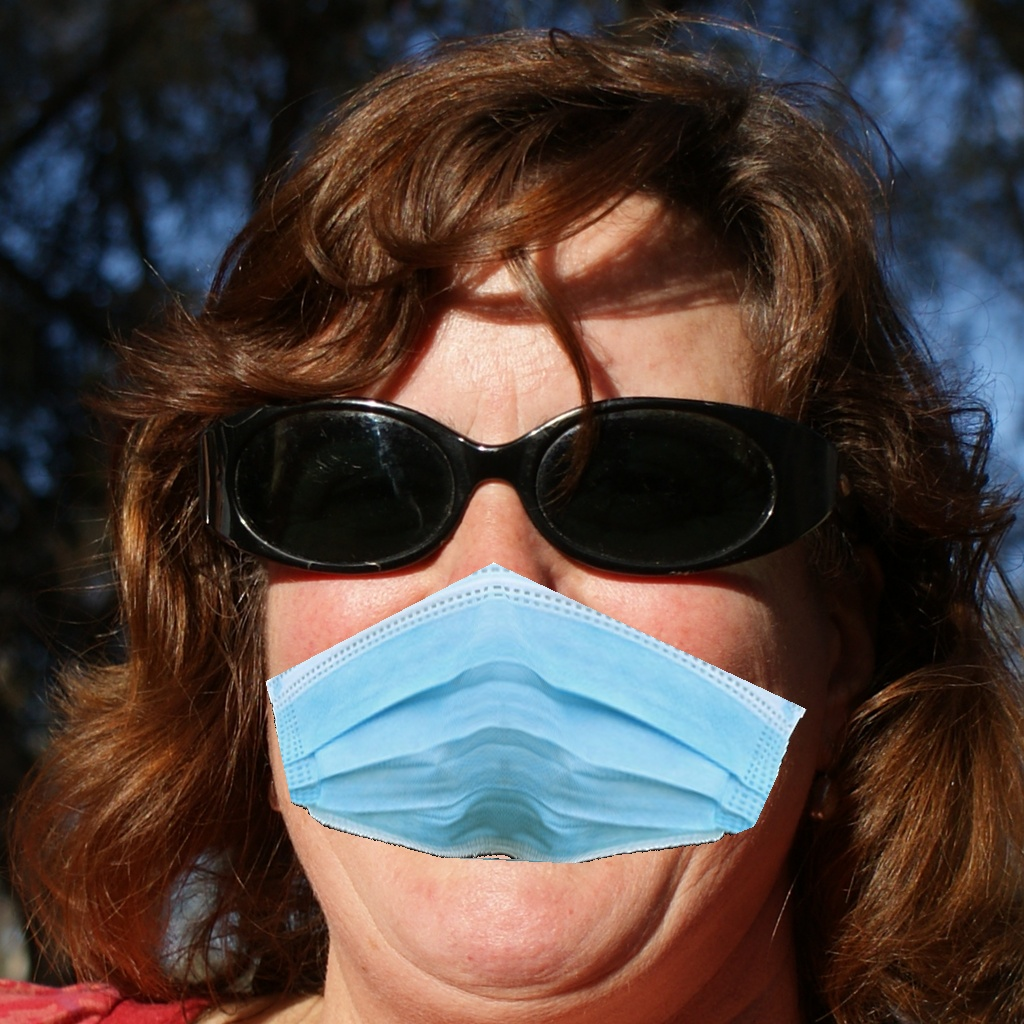mascarilla_mal_puesta: (207, 380, 772, 968)
